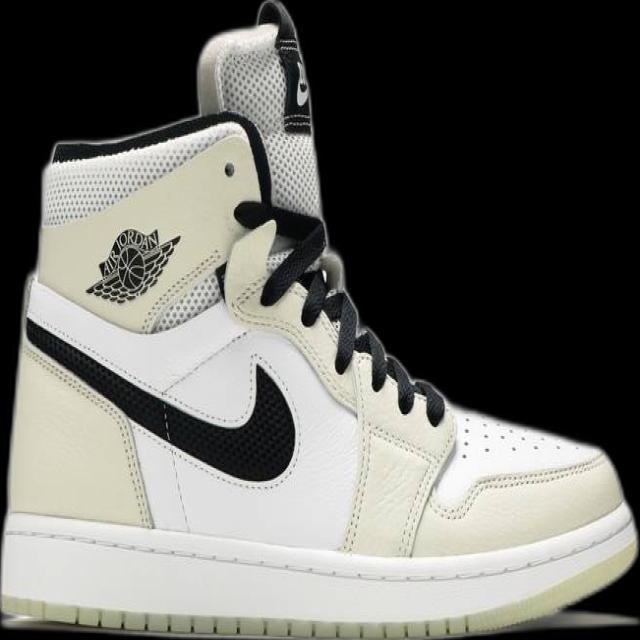J1_InsoleChar: (0, 0, 638, 639)
J1_ShoeLogo: (254, 0, 314, 135), (84, 226, 180, 304)
J1_StitchPattern: (224, 210, 457, 556), (1, 508, 636, 587), (22, 313, 300, 487), (248, 222, 443, 423), (21, 314, 157, 528), (335, 326, 454, 558), (3, 596, 471, 639), (41, 125, 239, 226), (259, 235, 391, 382), (439, 449, 608, 521), (339, 347, 375, 554), (299, 267, 363, 372), (456, 412, 567, 459), (329, 285, 361, 371)
